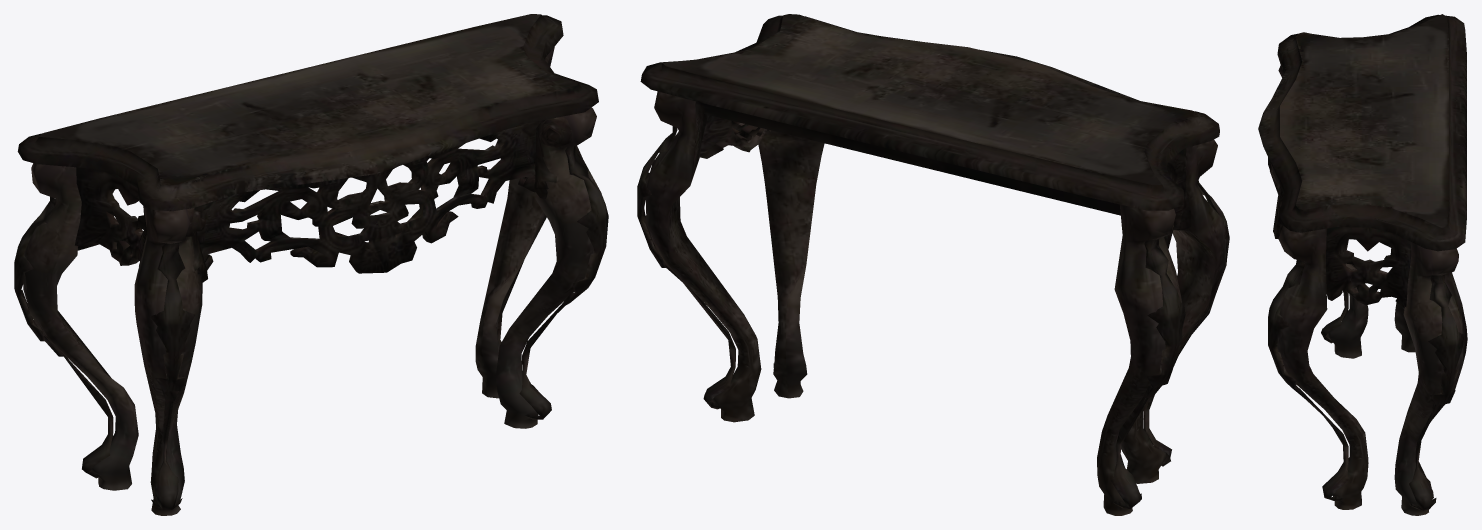
The model's file is ClassicConsole_01.glb.
3 renders of one model, left to right at view 1: azimuth 30°, elevation 25°; view 2: azimuth 150°, elevation 25°; view 3: azimuth 270°, elevation 25°, orthographic. The views are drawn at different scales.
Parts seen in each view (by area): view 1: ClassicConsole_01; view 2: ClassicConsole_01; view 3: ClassicConsole_01.
Boxes of the visible parts, left/top/right/bottom form: ClassicConsole_01: left=14, top=14, right=608, bottom=515; ClassicConsole_01: left=637, top=14, right=1229, bottom=515; ClassicConsole_01: left=1258, top=14, right=1467, bottom=515.
Size of the model in its own units: 1.54 by 0.9491 by 0.5859.
Materials: 1 (1 with a texture image).
